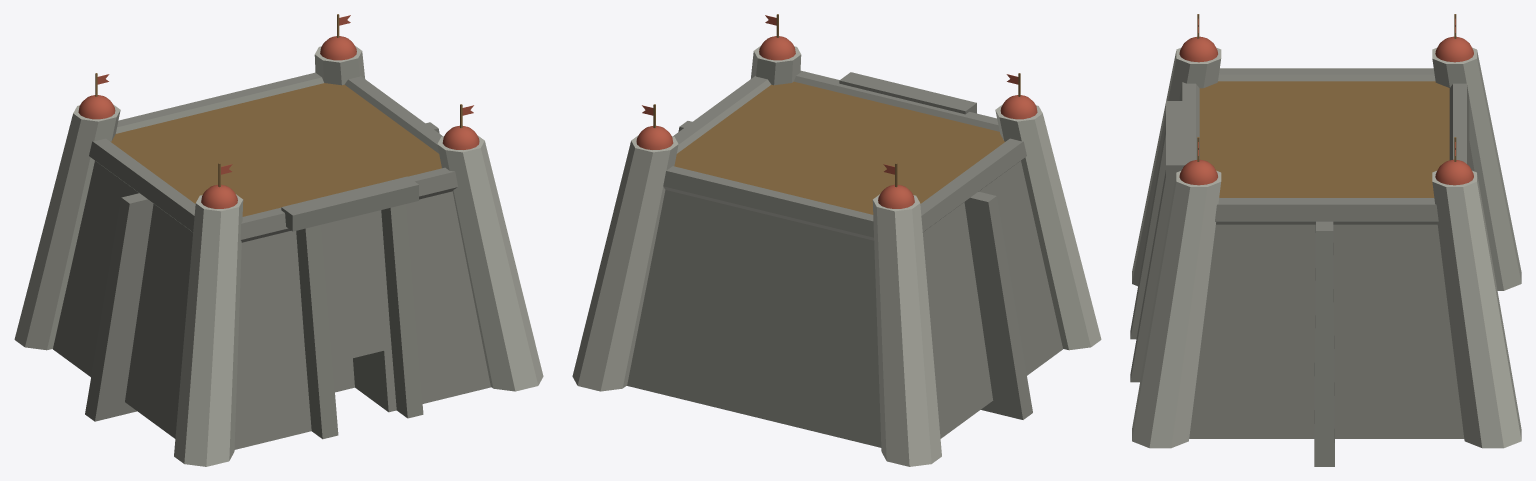
Rendered from quaternius-ultimate-fantasy-rts-wonder-secondage-level-1.glb.
3 renders of one model, left to right at view 1: azimuth 30°, elevation 25°; view 2: azimuth 150°, elevation 25°; view 3: azimuth 270°, elevation 25°, orthographic. The views are drawn at different scales.
Parts seen in each view (by area): view 1: Wonder_SecondAge_Level1; view 2: Wonder_SecondAge_Level1; view 3: Wonder_SecondAge_Level1.
Boxes of the visible parts, x1,y1,x2,y2 form: Wonder_SecondAge_Level1: [14, 14, 543, 466]; Wonder_SecondAge_Level1: [572, 14, 1101, 466]; Wonder_SecondAge_Level1: [1130, 14, 1521, 466].
Bounding box in the file's own units: 1.46 × 1.03 × 1.24.
